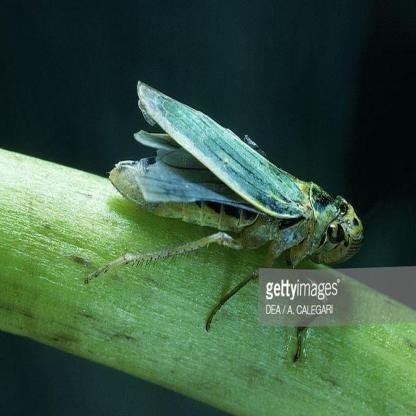green-leafhopper: (108, 80, 362, 292)
